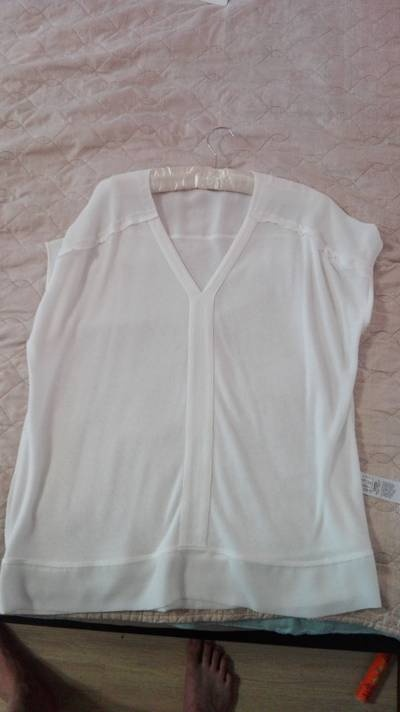Blouse: (6, 132, 387, 643)
